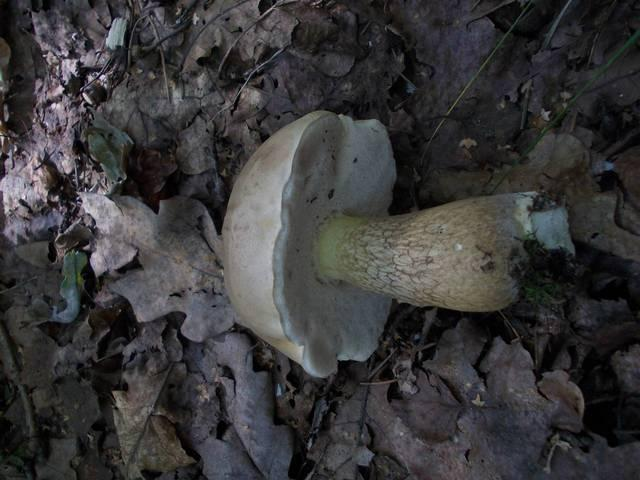poisonous_mushroom: (218, 108, 574, 379)
